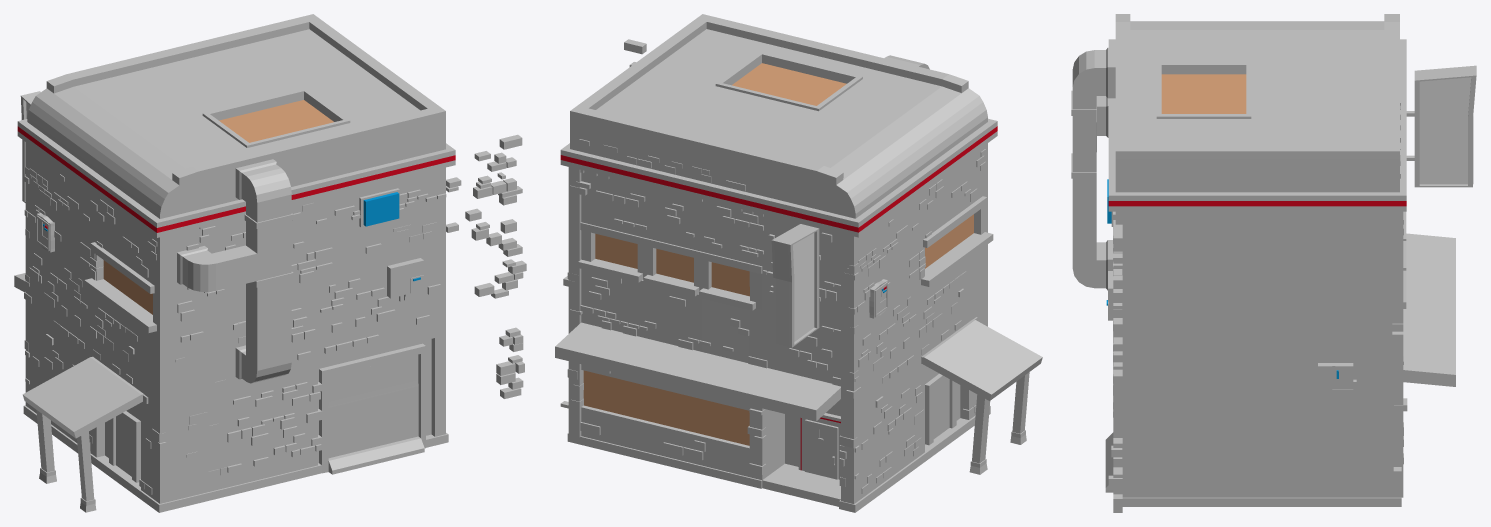
The model's file is Building_Fader.fbx.
3 views of the same model, side by side, from view 1: azimuth 30°, elevation 25°; view 2: azimuth 150°, elevation 25°; view 3: azimuth 270°, elevation 25° (orthographic). The views are drawn at different scales.
Visible parts, largest first — view 1: Building_Sign01, Wall.004, Wall.002; view 2: Building_Sign01, Wall.001, Wall.002, Cube.050; view 3: Building_Sign01, Wall.004, Wall.001.
Boxes of the visible parts, bbox=[...] form: Building_Sign01: bbox=[14, 14, 455, 512]; Wall.004: bbox=[175, 134, 526, 478]; Wall.002: bbox=[24, 168, 166, 494]; Building_Sign01: bbox=[555, 14, 1042, 512]; Wall.001: bbox=[560, 139, 859, 486]; Wall.002: bbox=[846, 149, 985, 493]; Cube.050: bbox=[804, 419, 838, 479]; Building_Sign01: bbox=[1071, 14, 1476, 506]; Wall.004: bbox=[1108, 211, 1122, 512]; Wall.001: bbox=[1392, 92, 1407, 474].
Size of the model in its own units: 1163 by 845 by 875.
